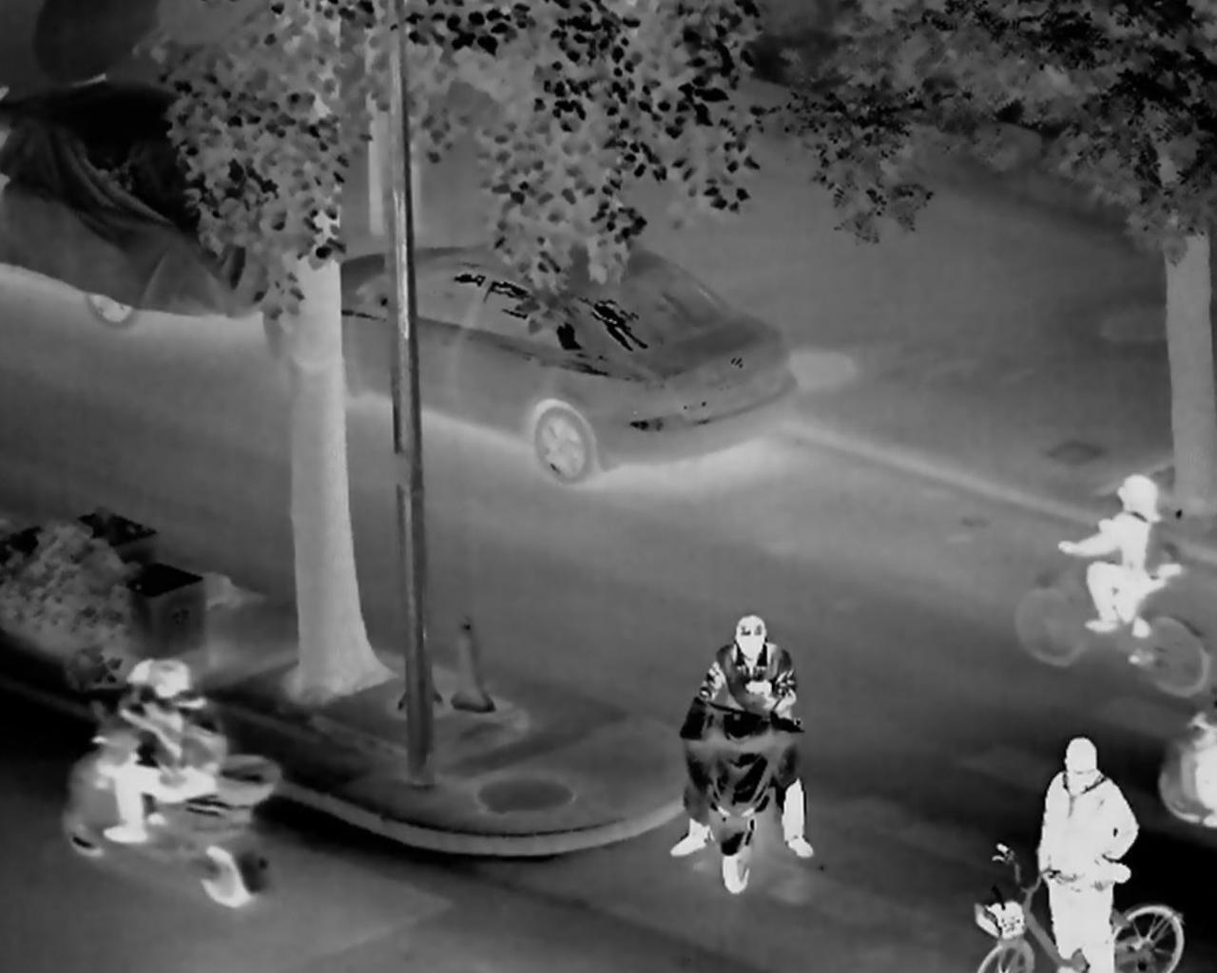person: (666, 617, 813, 849), (1053, 462, 1177, 673), (112, 657, 239, 849), (1037, 733, 1137, 970)
